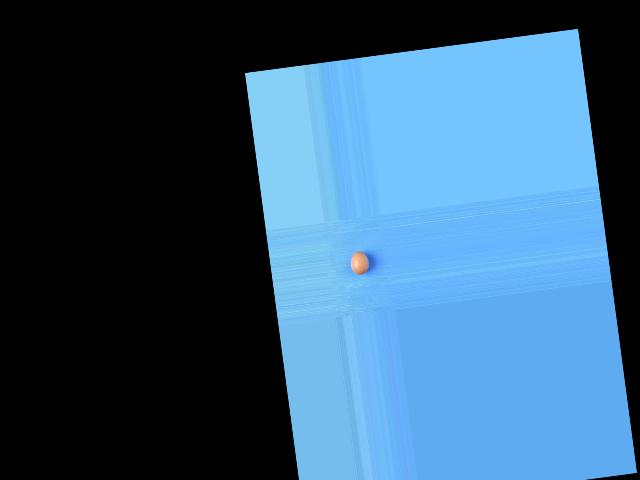egg: (349, 250, 370, 275)
